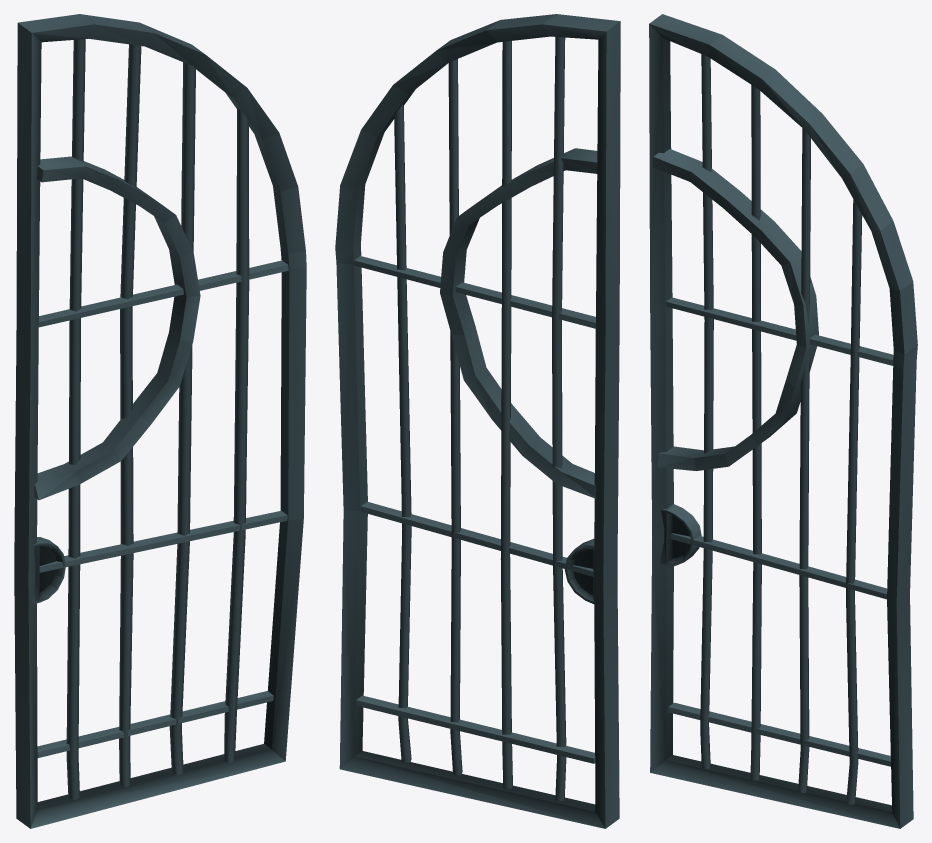
Rendered from obj_gateDoor_left_LOW.FBX.
3 views of the same model, side by side, from view 1: azimuth 30°, elevation 25°; view 2: azimuth 150°, elevation 25°; view 3: azimuth 330°, elevation 25° (orthographic). The views are drawn at different scales.
Parts seen in each view (by area): view 1: obj_gateDoor_left_LOW; view 2: obj_gateDoor_left_LOW; view 3: obj_gateDoor_left_LOW.
Boxes of the visible parts, x1,y1,x2,y2 form: obj_gateDoor_left_LOW: [14, 14, 306, 828]; obj_gateDoor_left_LOW: [335, 14, 620, 828]; obj_gateDoor_left_LOW: [649, 14, 917, 828].
Bounding box in the file's own units: 1.67 × 4.65 × 0.2663.
